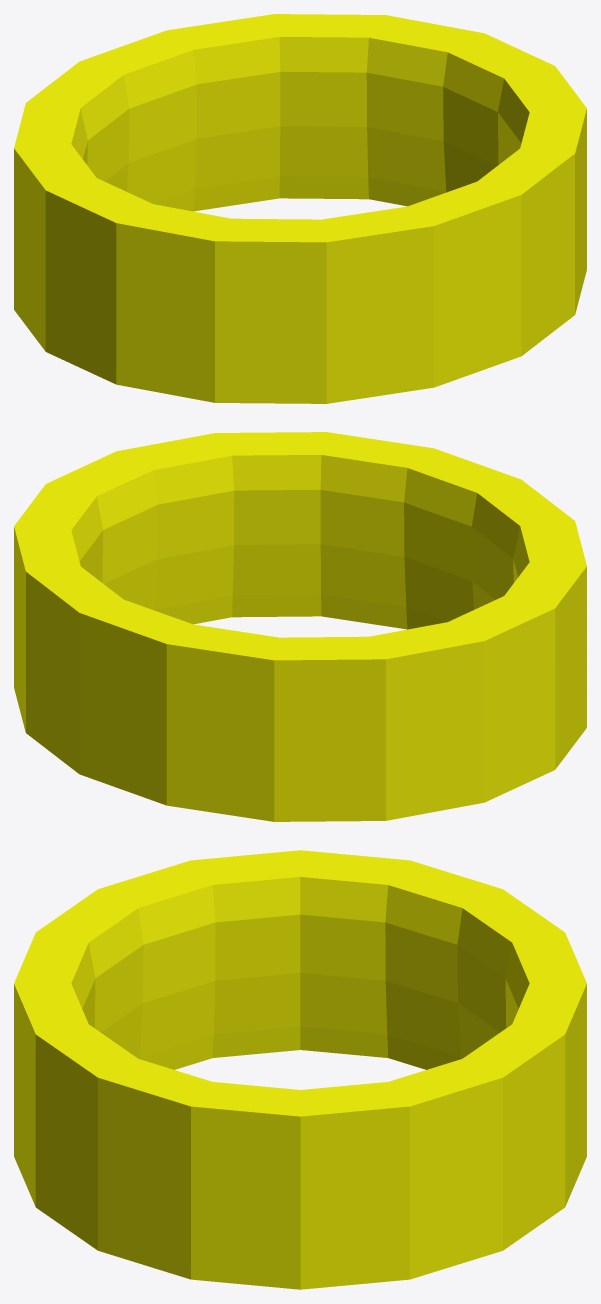
Rendered from neck wear.fbx.
The picture shows the model from 3 angles, top to bottom: view 1: azimuth 30°, elevation 25°; view 2: azimuth 150°, elevation 25°; view 3: azimuth 270°, elevation 25°; orthographic projection. The views are drawn at different scales.
Parts seen in each view (by area): view 1: 開いた線形状の回転体; view 2: 開いた線形状の回転体; view 3: 開いた線形状の回転体.
Part boxes in pixels (x1,y1,x2,y2): 開いた線形状の回転体: (14,14,586,403); 開いた線形状の回転体: (14,432,586,821); 開いた線形状の回転体: (14,850,586,1289).
Bounding box in the file's own units: 110 × 33.33 × 100.
